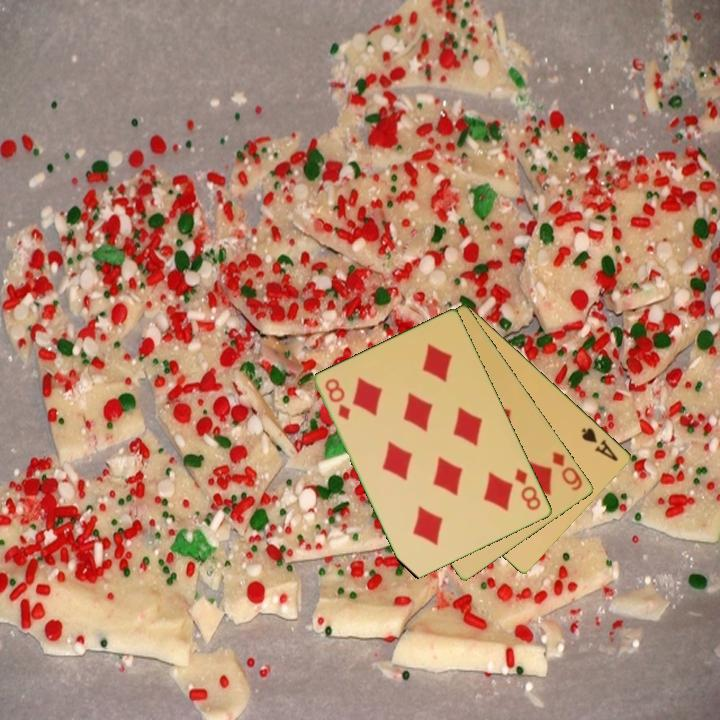6d: (549, 448, 586, 494)
8d: (511, 464, 544, 513), (322, 375, 354, 423)
As: (578, 424, 621, 464)
